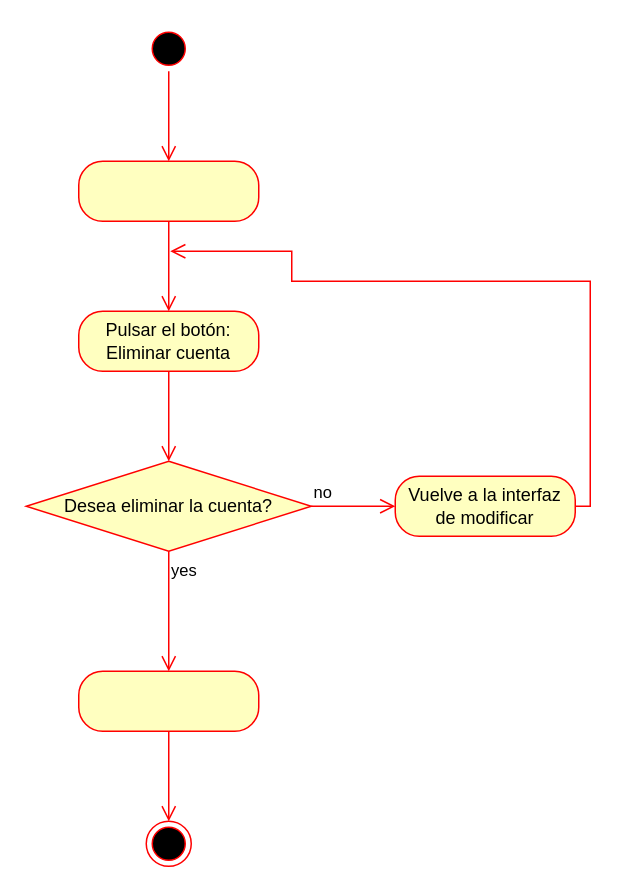
This 632x893 diagram has some shape labels left out. The shapes that lost their labels are listed below. From the top down, each one's box as (x1, y1, x2, y2) in pixels, then its label:
(77, 160, 259, 221): Pulsar el botón: Modificar cuenta
(77, 670, 259, 731): Cuenta eliminada con éxito
